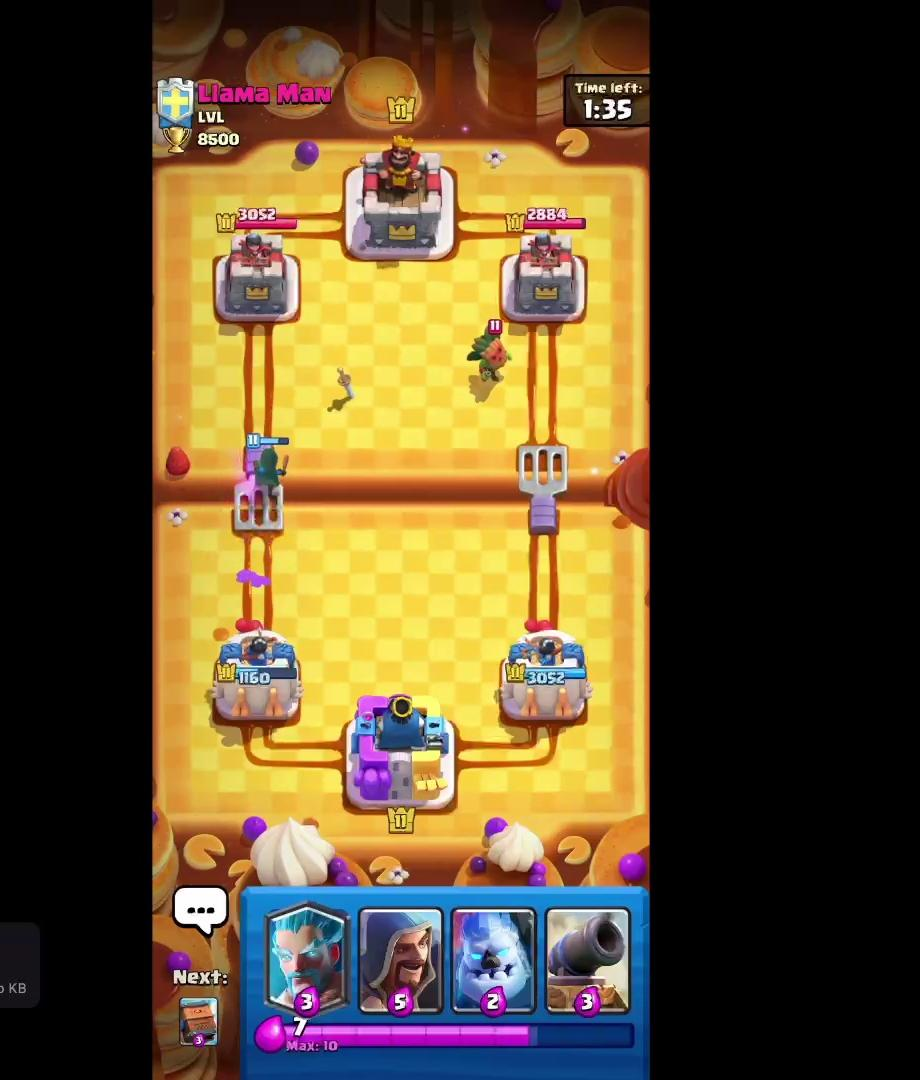Dart Goblin: (445, 316, 536, 380)
